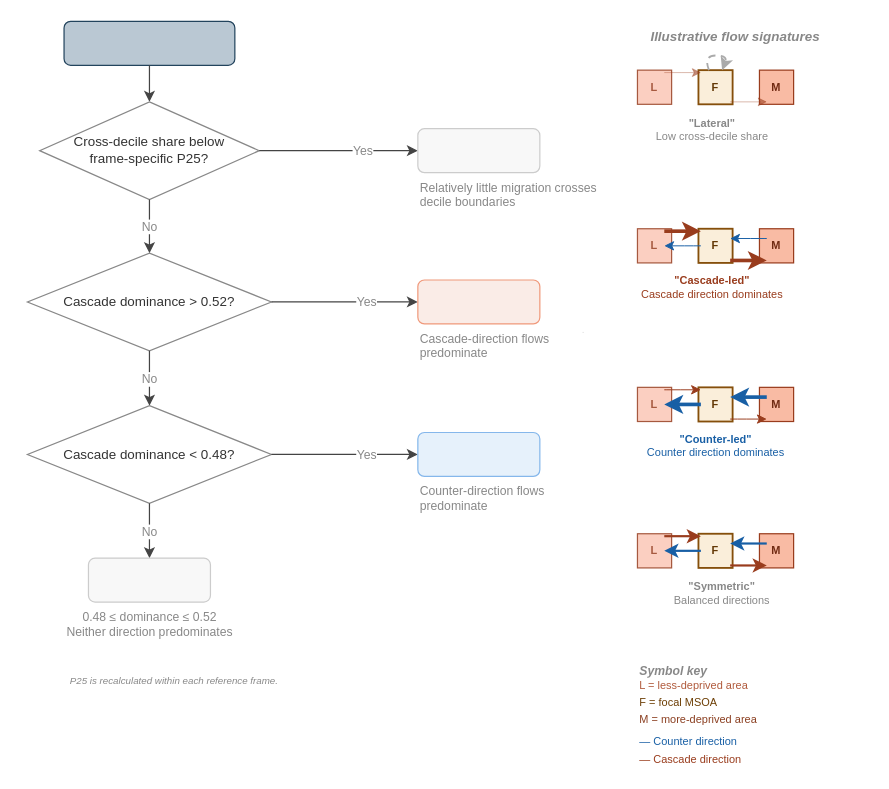
Some shapes in this 889 by 789 pixel diagram are drawn without their labels. Each missing label, with the centre of its shape:
All 982 MSOAs: the point at 149,42
Cascade-led: the point at 478,301
Counter-led: the point at 478,453
Lateral: the point at 478,150
Symmetric: the point at 148,579
